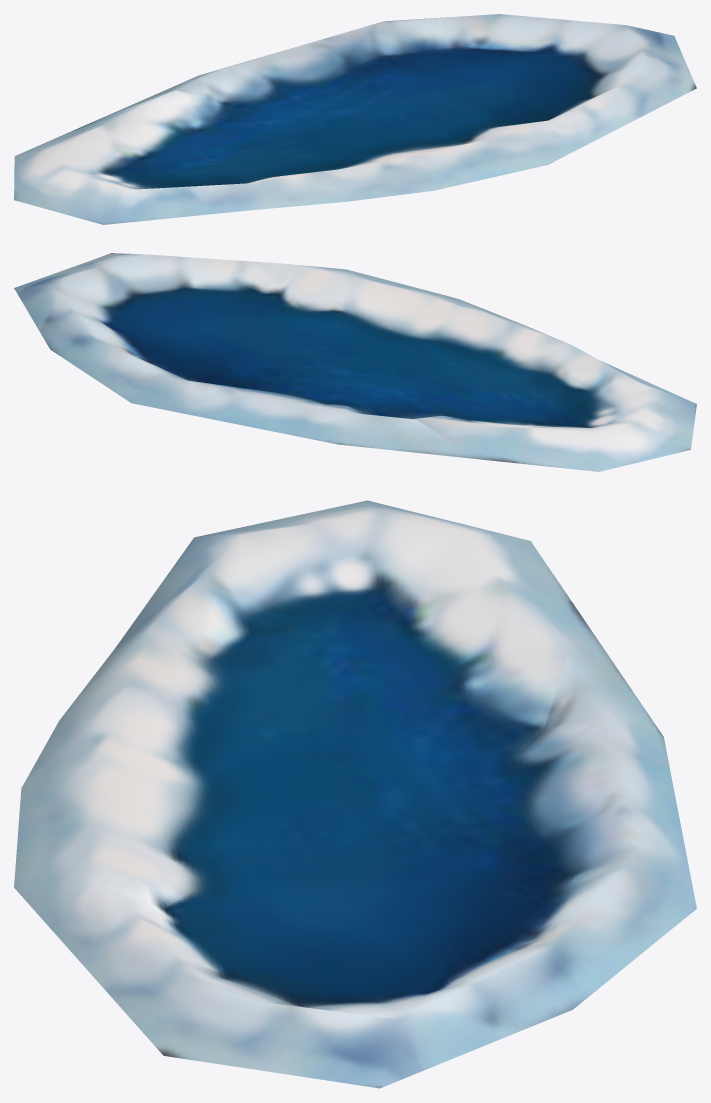
Rendered from BingKeng05.FBX.
The picture shows the model from 3 angles, top to bottom: view 1: azimuth 30°, elevation 25°; view 2: azimuth 150°, elevation 25°; view 3: azimuth 270°, elevation 25°; orthographic projection. The views are drawn at different scales.
Visible parts, largest first — view 1: BingKeng04; view 2: BingKeng04; view 3: BingKeng04.
Boxes of the visible parts, box(x1,y1,x2,y2) form: BingKeng04: box(14, 14, 696, 224); BingKeng04: box(14, 253, 696, 471); BingKeng04: box(14, 500, 696, 1088).
Bounding box in the file's own units: 254 × 6.26 × 125.
